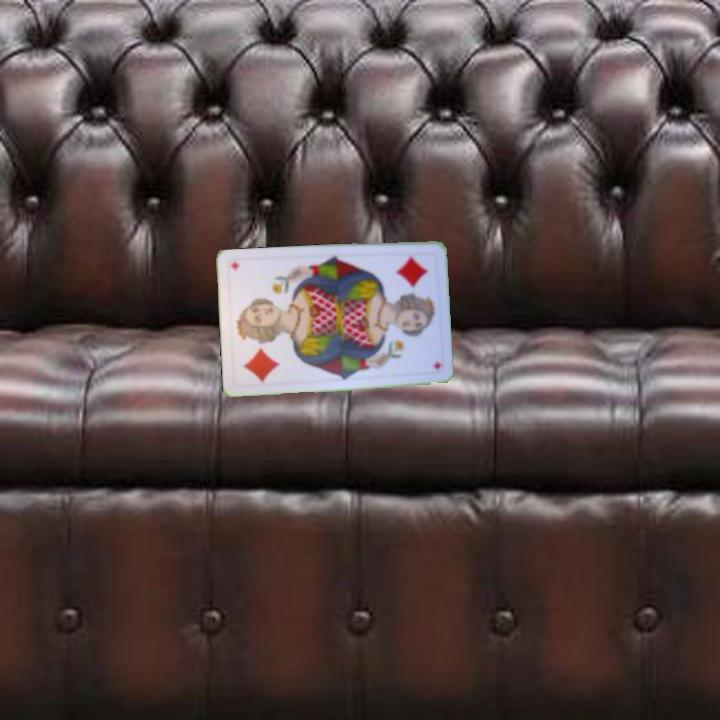d_q.png: (379, 248, 440, 318), (229, 317, 290, 387)
